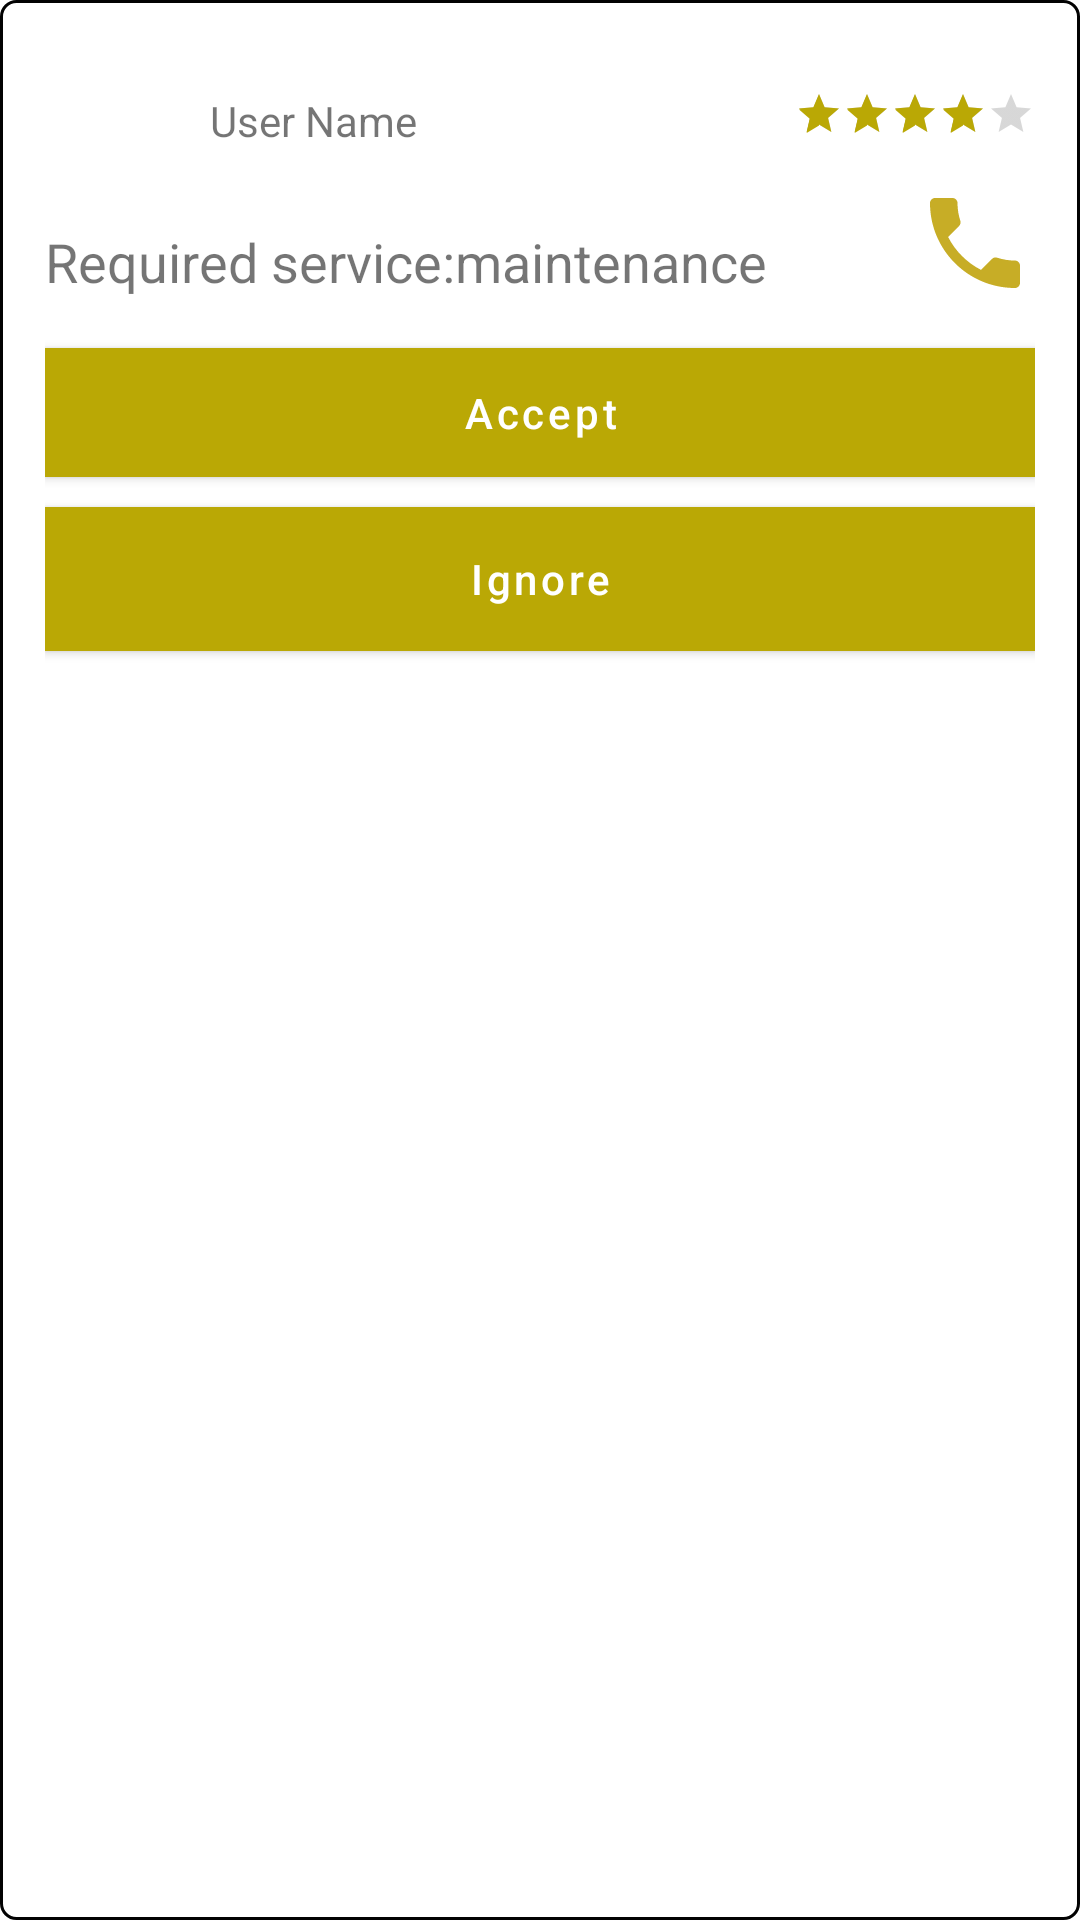

Point at icon controls on the screen. Image size 1080*1920, points as point (x, y).
call: point (975, 243)
